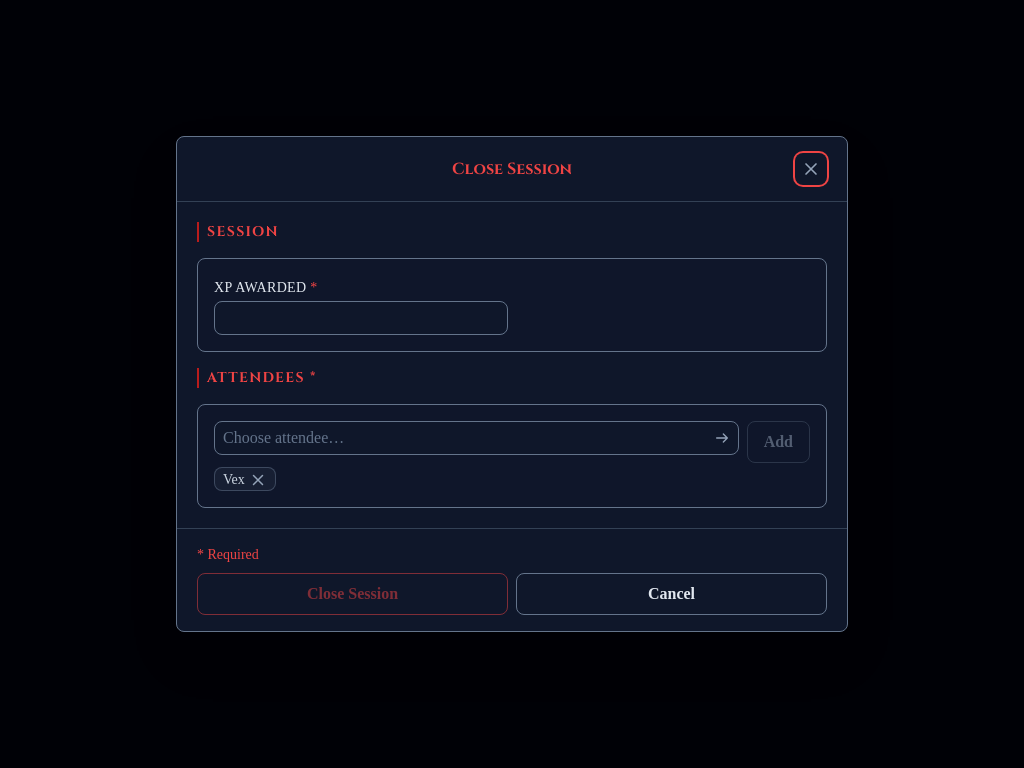
Test: SessionForm close mode › requires at least one attendee to close, shown by the required note
Type "150" into the field labelled "XP Awarded *" at (361, 318), box [214,301,508,335]
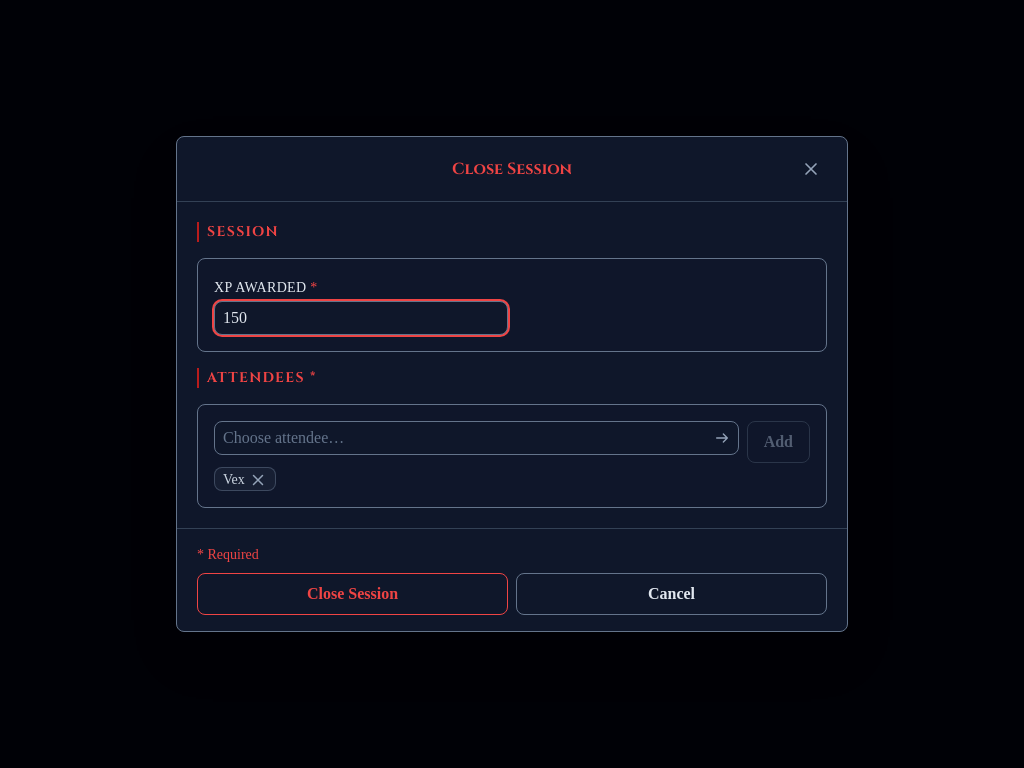
Expected: the text "Required" is shown, [204,547,259,562]
Expected: the button "Close Session" is enabled, [197,573,508,615]
Click the button named "Remove Vex" at (258, 480), box [249,470,267,488]
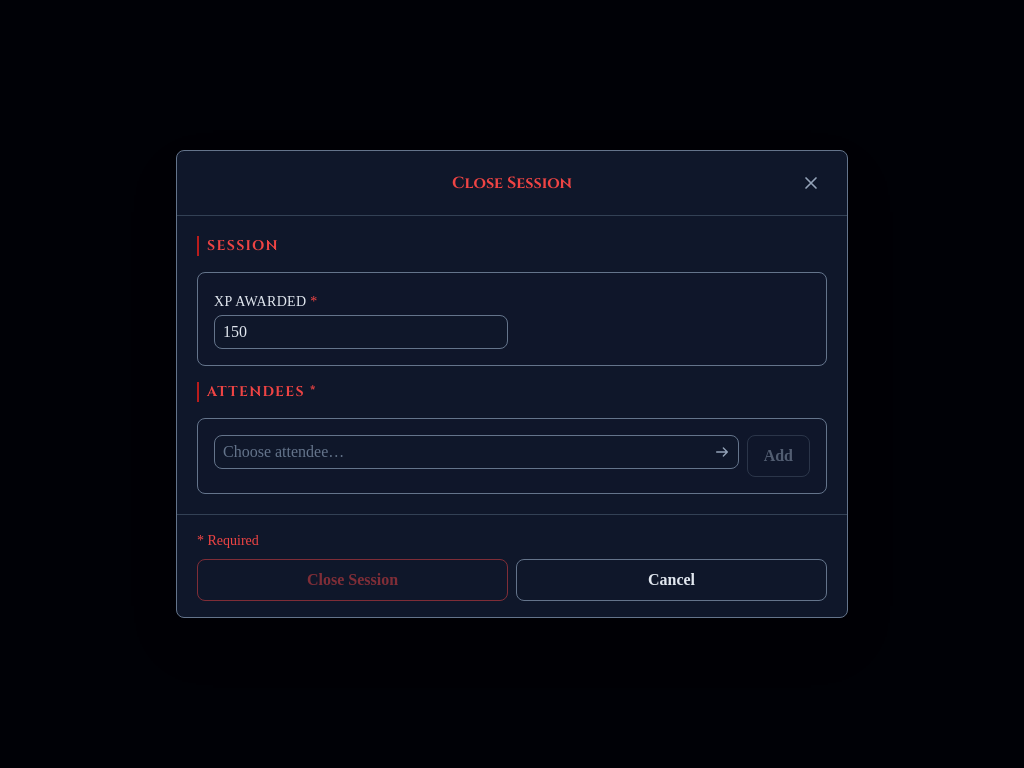
Expected: the button "Close Session" is disabled, [197,559,508,601]
